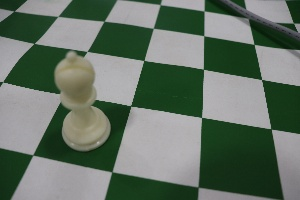white_bishop: (49, 38, 113, 155)
